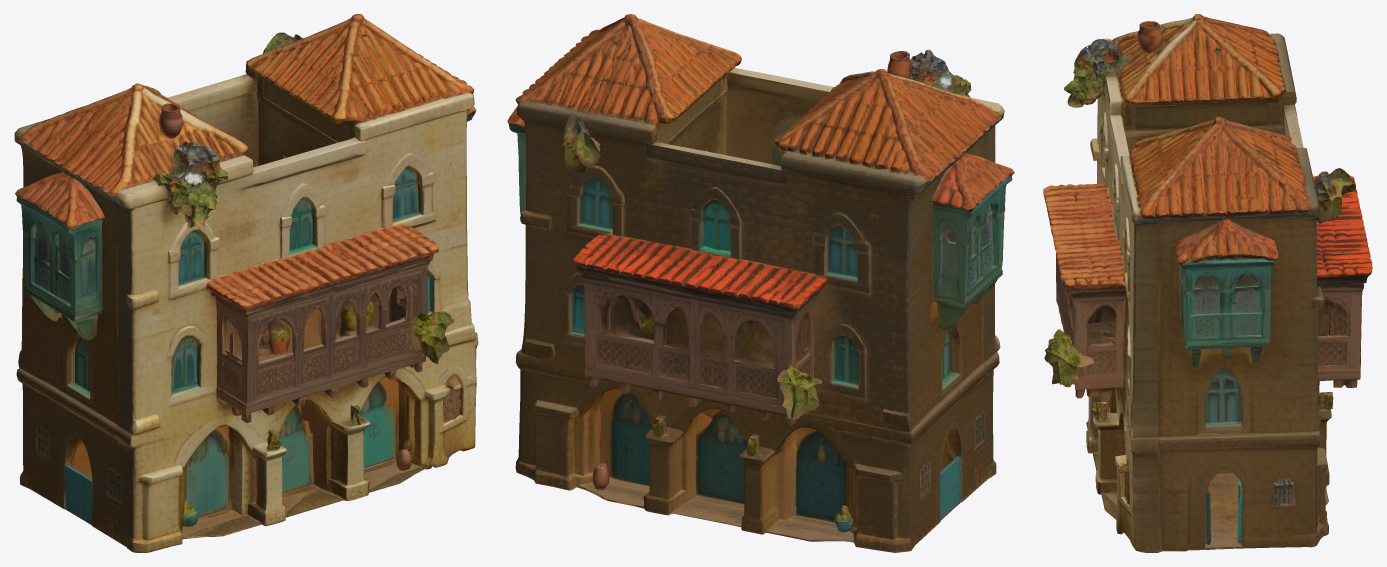
File: bld_jaffa_old_house.glb
3 renders of one model, left to right at view 1: azimuth 30°, elevation 25°; view 2: azimuth 150°, elevation 25°; view 3: azimuth 270°, elevation 25°, orthographic. The views are drawn at different scales.
Parts seen in each view (by area): view 1: geometry_0; view 2: geometry_0; view 3: geometry_0.
Part boxes in pixels (x1,y1,x2,y2): geometry_0: (14, 14, 478, 552); geometry_0: (507, 14, 1014, 552); geometry_0: (1043, 14, 1372, 552).
Bounding box in the file's own units: 14.07 × 13 × 9.68.
Materials: 1 (1 with a texture image).
